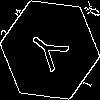Y: (25, 25, 77, 80)
